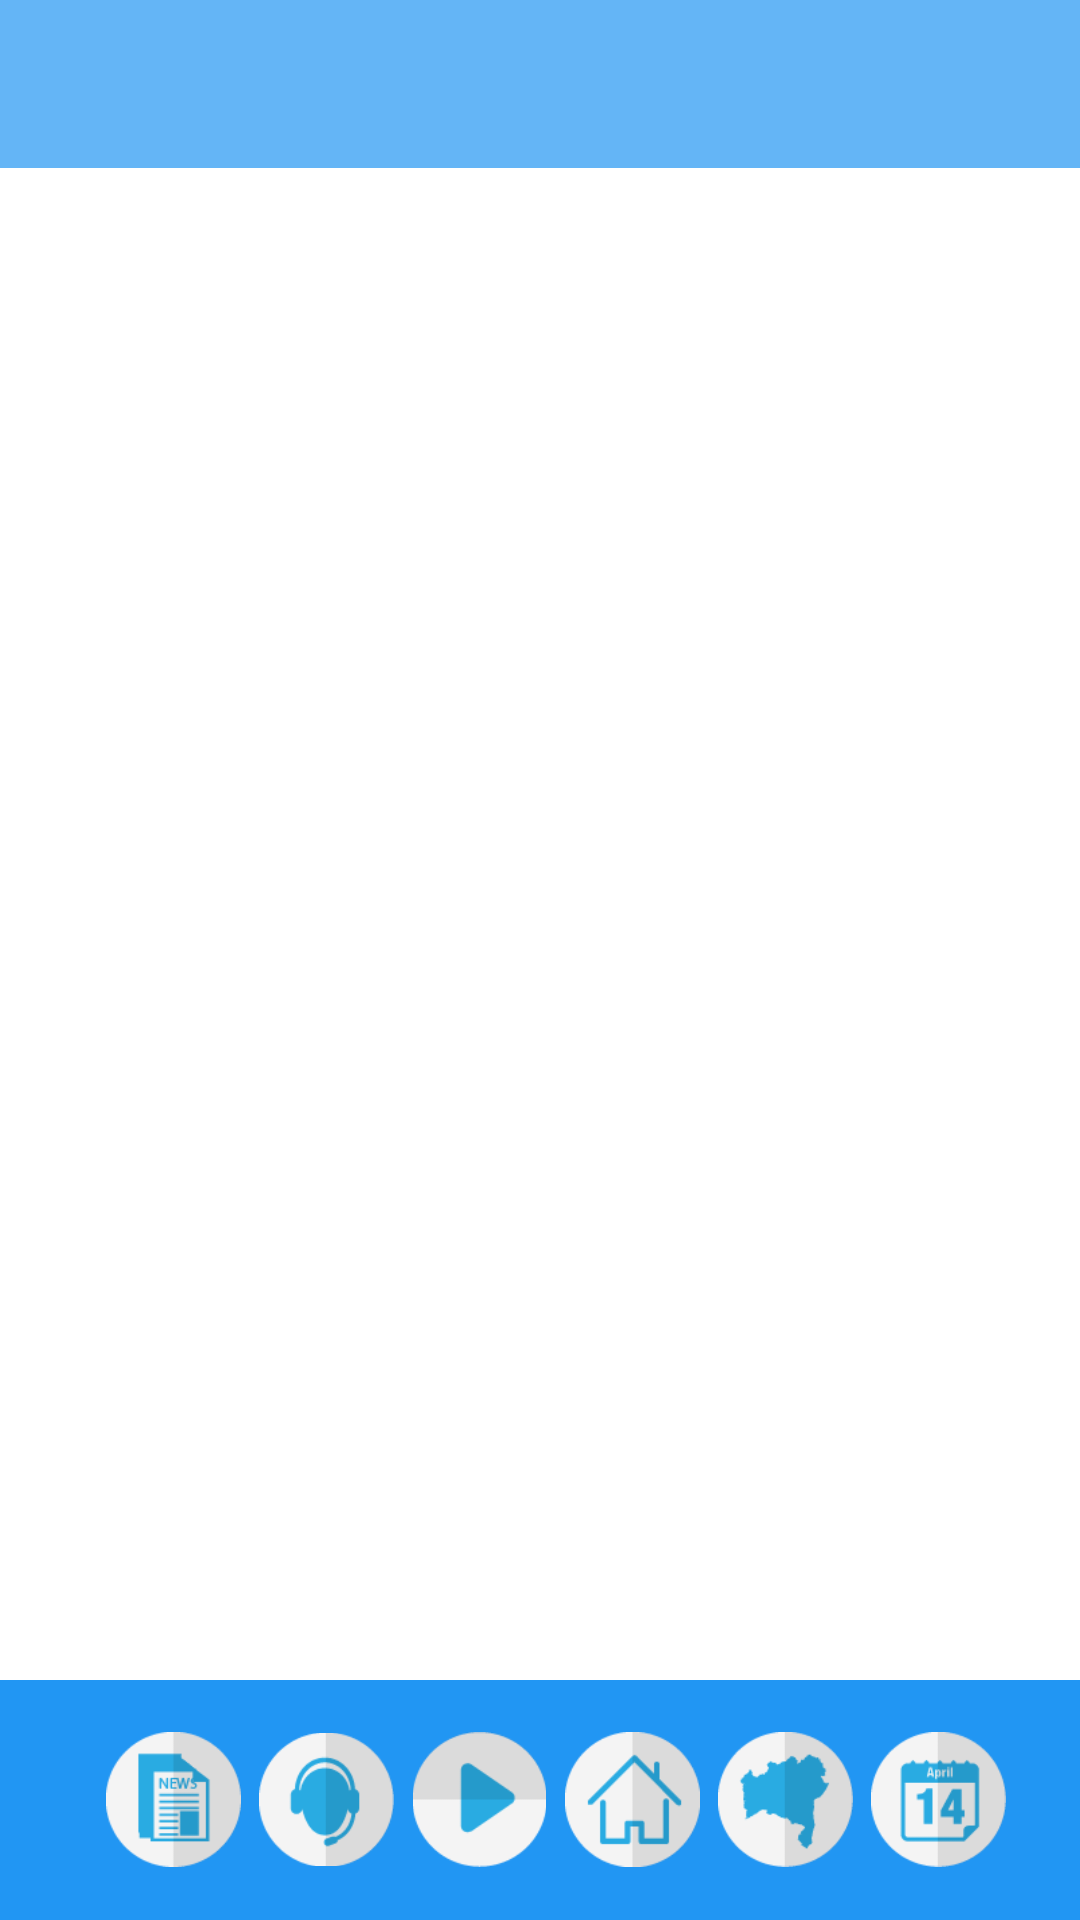

Icons on this 1080 x 1920 Android screen, each with the point to tap as (x,y):
agenda: (938,1799)
linhadir: (326,1799)
mapas: (785,1799)
portal: (632,1799)
webtv: (479,1799)
